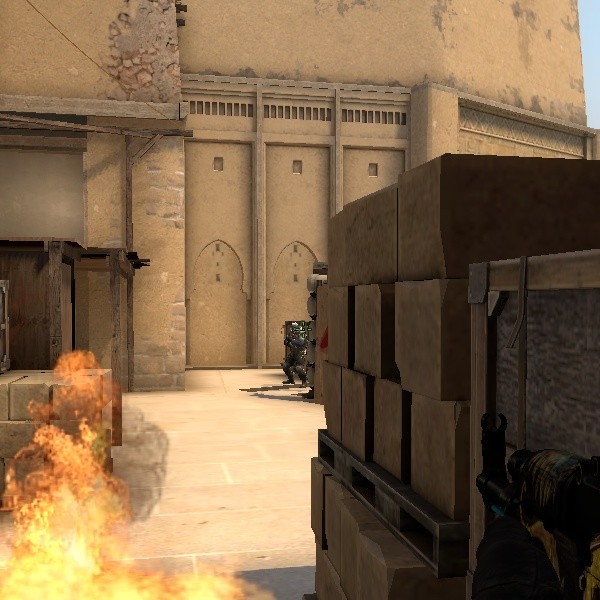ct_body: (279, 319, 313, 388)
ct_head: (288, 320, 303, 337)
